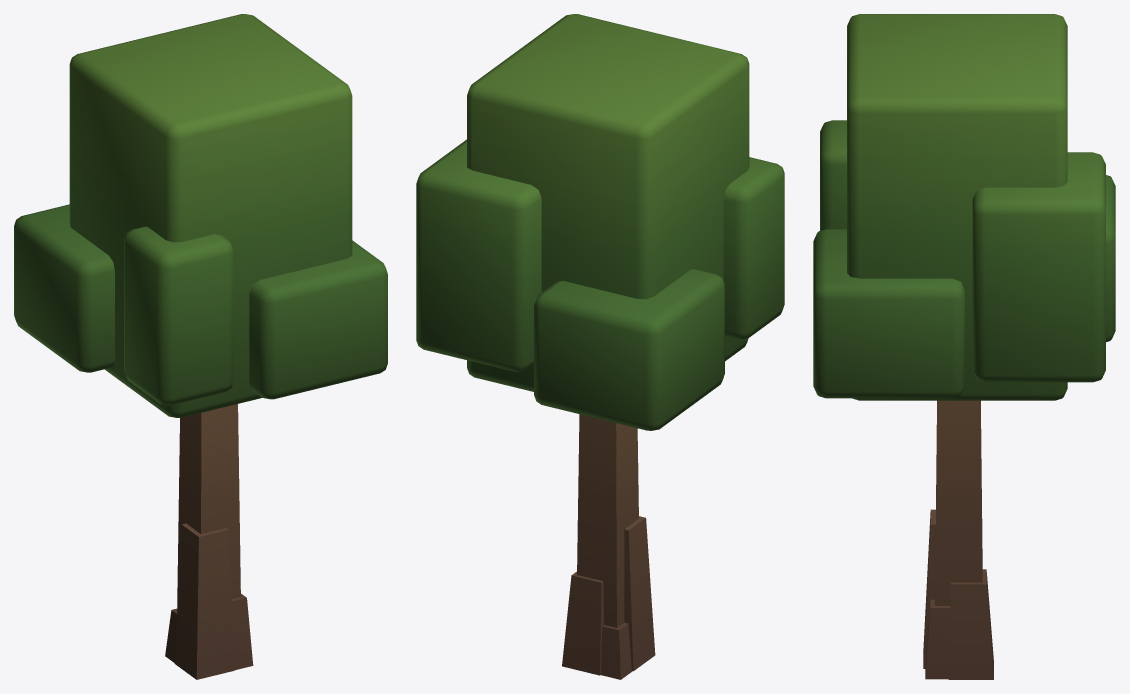
Rendered from tree2.fbx.
3 views of the same model, side by side, from view 1: azimuth 30°, elevation 25°; view 2: azimuth 150°, elevation 25°; view 3: azimuth 270°, elevation 25° (orthographic). The views are drawn at different scales.
Parts seen in each view (by area): view 1: tree3.001; view 2: tree3.001; view 3: tree3.001.
Boxes of the visible parts, bbox=[...] form: tree3.001: bbox=[14, 14, 387, 679]; tree3.001: bbox=[416, 14, 784, 679]; tree3.001: bbox=[813, 14, 1115, 679].
Size of the model in its own units: 240 by 244 by 544.
